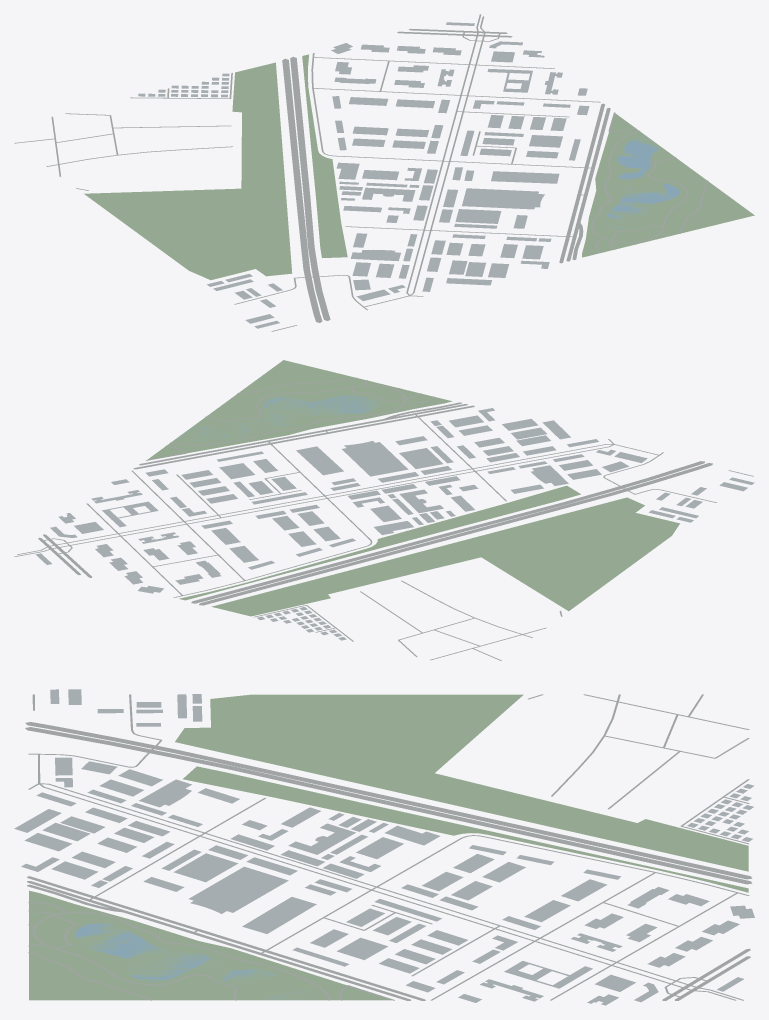
Rendered from -20_16-known-coarse.glb.
3 views of the same model, one above another, from view 1: azimuth 30°, elevation 25°; view 2: azimuth 150°, elevation 25°; view 3: azimuth 270°, elevation 25° (orthographic). The views are drawn at different scales.
Size of the model in its own units: 1035 by 0.15 by 1024.
